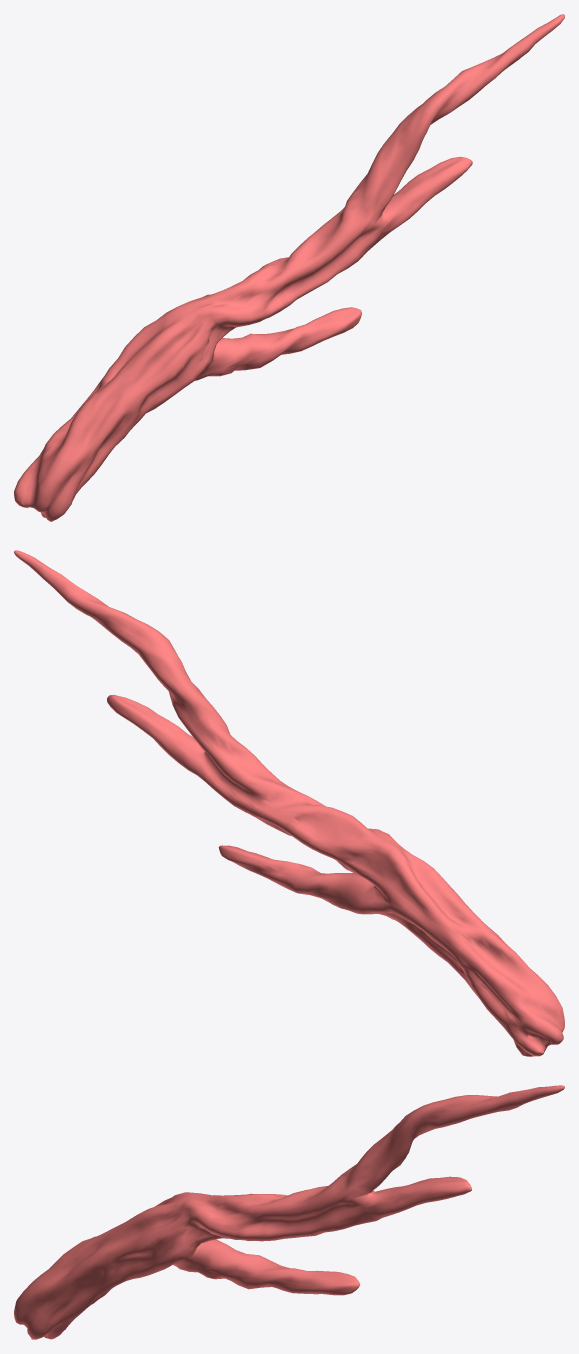
Rendered from branches001change.fbx.
The picture shows the model from 3 angles, top to bottom: view 1: azimuth 30°, elevation 25°; view 2: azimuth 150°, elevation 25°; view 3: azimuth 330°, elevation 25°; orthographic projection.
Visible parts, largest first — view 1: 樹枝001; view 2: 樹枝001; view 3: 樹枝001.
Part boxes in pixels (x1,y1,x2,y2): 樹枝001: (14,14,564,521); 樹枝001: (14,550,564,1056); 樹枝001: (14,1085,564,1339).
Size of the model in its own units: 1099 by 726 by 116.
